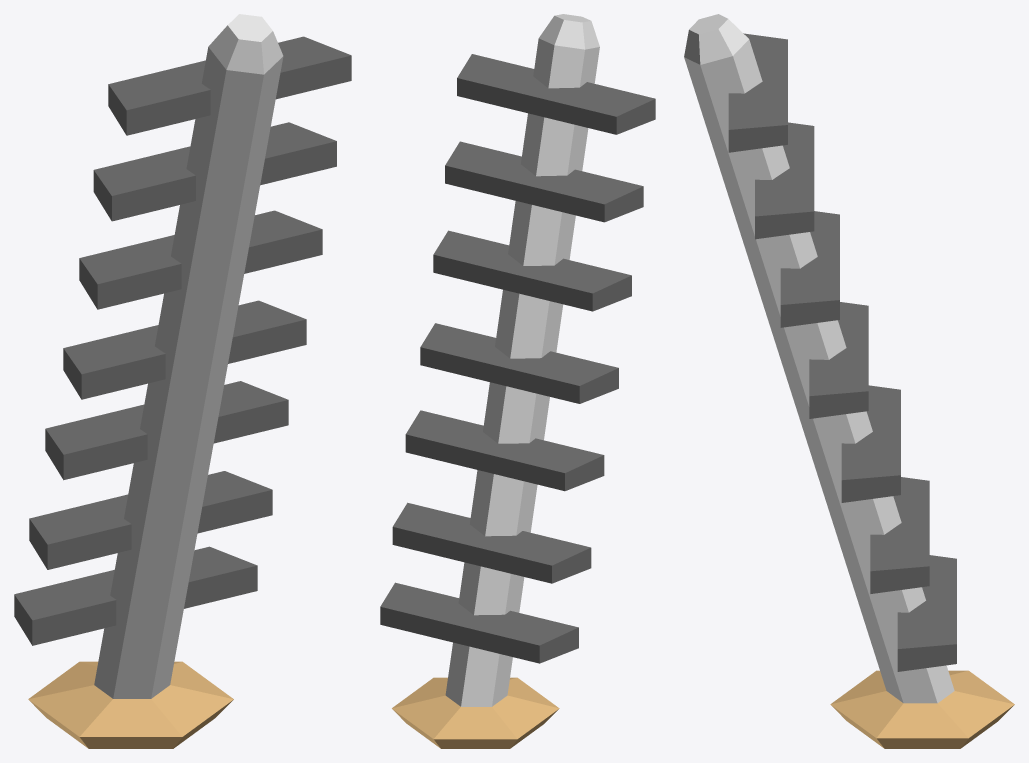
File: Ladder.fbx
The picture shows the model from 3 angles, left to right: view 1: azimuth 30°, elevation 25°; view 2: azimuth 150°, elevation 25°; view 3: azimuth 270°, elevation 25°; orthographic projection. The views are drawn at different scales.
Parts seen in each view (by area): view 1: Ladder; view 2: Ladder; view 3: Ladder.
Boxes of the visible parts, x1,y1,x2,y2 form: Ladder: [14, 14, 351, 748]; Ladder: [380, 14, 655, 748]; Ladder: [684, 14, 1014, 748].
Bounding box in the file's own units: 45.47 × 151 × 64.55.
